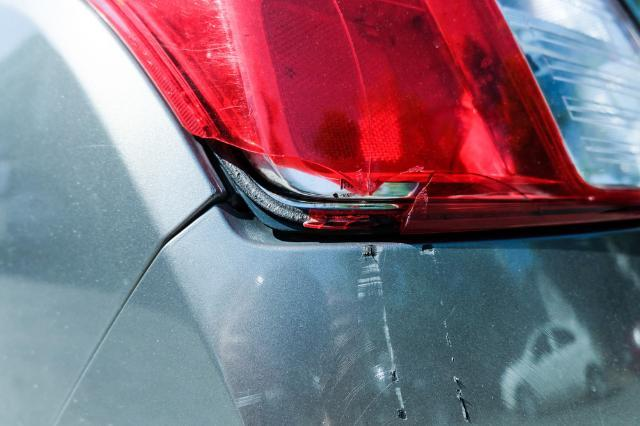lamp broken: (83, 0, 640, 238)
scratch: (357, 241, 473, 424)
